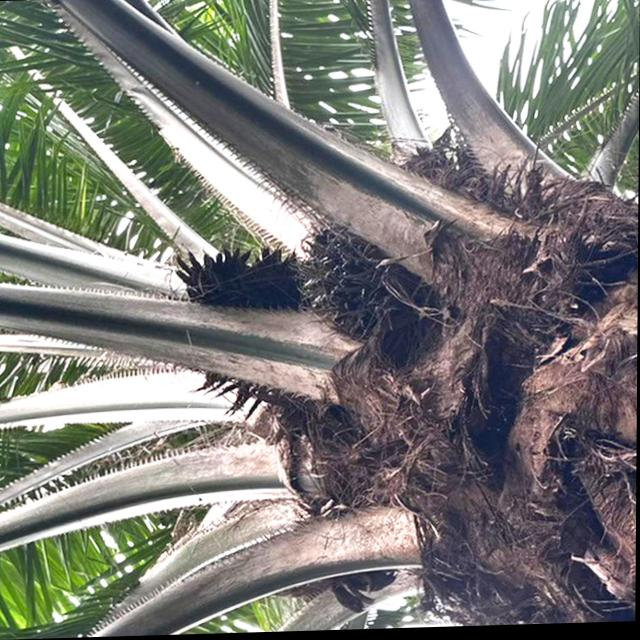unripe: (295, 215, 432, 359)
